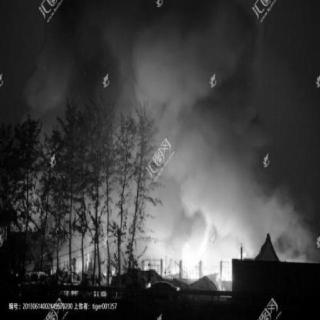Smoke: (47, 10, 261, 192)
